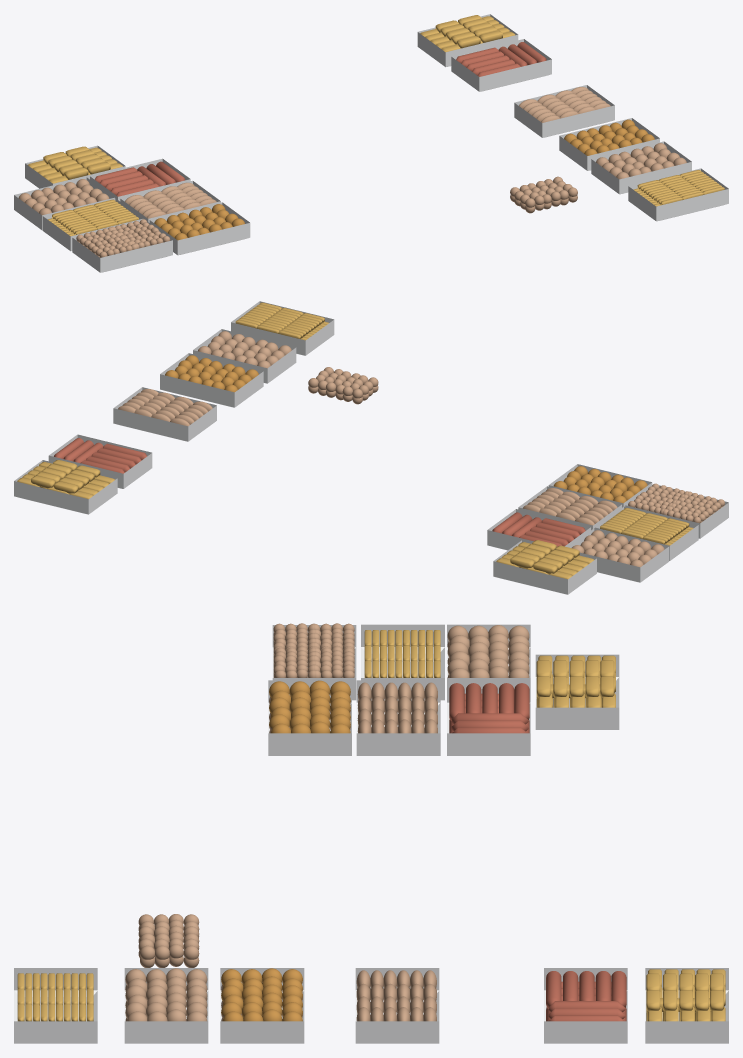
The model's file is frozen.glb.
3 views of the same model, one above another, from view 1: azimuth 30°, elevation 25°; view 2: azimuth 150°, elevation 25°; view 3: azimuth 270°, elevation 25° (orthographic). The views are drawn at different scales.
Visible parts, largest first — view 1: Sphere.008, Sphere.059, Cube.025, Cube.038, Sphere.034, Cylinder.008, Sphere.105, Cube.059, Cube.043, Cube.058, Sphere.011, Cube.045 (+12 smaller); view 2: Cube.025, Sphere.034, Sphere.008, Cube.038, Cylinder.008, Sphere.105, Sphere.059, Cube.044, Cube.043, Cube.085, Sphere.011, Cube.058 (+12 smaller); view 3: Sphere.105, Cube.025, Cylinder.008, Sphere.059, Sphere.008, Cube.038, Sphere.034, Cube.058, Sphere.011, Cube.043, Cube.059, Cube.085 (+13 smaller).
Boxes of the visible parts, left/top/right/bottom form: Sphere.008: left=72, top=219, right=172, bottom=272; Sphere.059: left=149, top=202, right=250, bottom=255; Cube.025: left=25, top=145, right=125, bottom=188; Cube.038: left=42, top=198, right=142, bottom=251; Sphere.034: left=14, top=177, right=114, bottom=230; Cylinder.008: left=90, top=158, right=190, bottom=201; Sphere.105: left=120, top=180, right=220, bottom=222; Cube.059: left=451, top=39, right=551, bottom=91; Cube.043: left=514, top=85, right=614, bottom=137; Cube.058: left=628, top=168, right=728, bottom=221; Sphere.011: left=510, top=176, right=577, bottom=213; Cube.045: left=591, top=141, right=691, bottom=194; Cube.025: left=493, top=540, right=596, bottom=594; Sphere.034: left=568, top=528, right=669, bottom=582; Sphere.008: left=625, top=483, right=728, bottom=538; Cube.038: left=595, top=506, right=698, bottom=560; Cylinder.008: left=487, top=509, right=590, bottom=550; Sphere.105: left=518, top=486, right=621, bottom=530; Sphere.059: left=548, top=464, right=652, bottom=507; Cube.044: left=160, top=353, right=263, bottom=407; Cube.043: left=113, top=387, right=216, bottom=441; Cube.085: left=14, top=460, right=117, bottom=514; Sphere.011: left=308, top=367, right=378, bottom=404; Cube.058: left=231, top=301, right=334, bottom=355; Sphere.105: left=356, top=680, right=440, bottom=755; Cube.025: left=535, top=654, right=619, bottom=729; Cylinder.008: left=447, top=680, right=530, bottom=755; Sphere.059: left=268, top=680, right=351, bottom=755; Sphere.008: left=272, top=623, right=356, bottom=700; Cube.038: left=361, top=624, right=444, bottom=700; Sphere.034: left=447, top=624, right=530, bottom=680; Cube.058: left=14, top=968, right=97, bottom=1043; Sphere.011: left=138, top=914, right=199, bottom=967; Cube.043: left=355, top=968, right=439, bottom=1043; Cube.059: left=544, top=968, right=627, bottom=1043; Cube.085: left=645, top=968, right=728, bottom=1043.
Bounding box in the file's own units: 1.34 × 0.0562 × 1.02.
